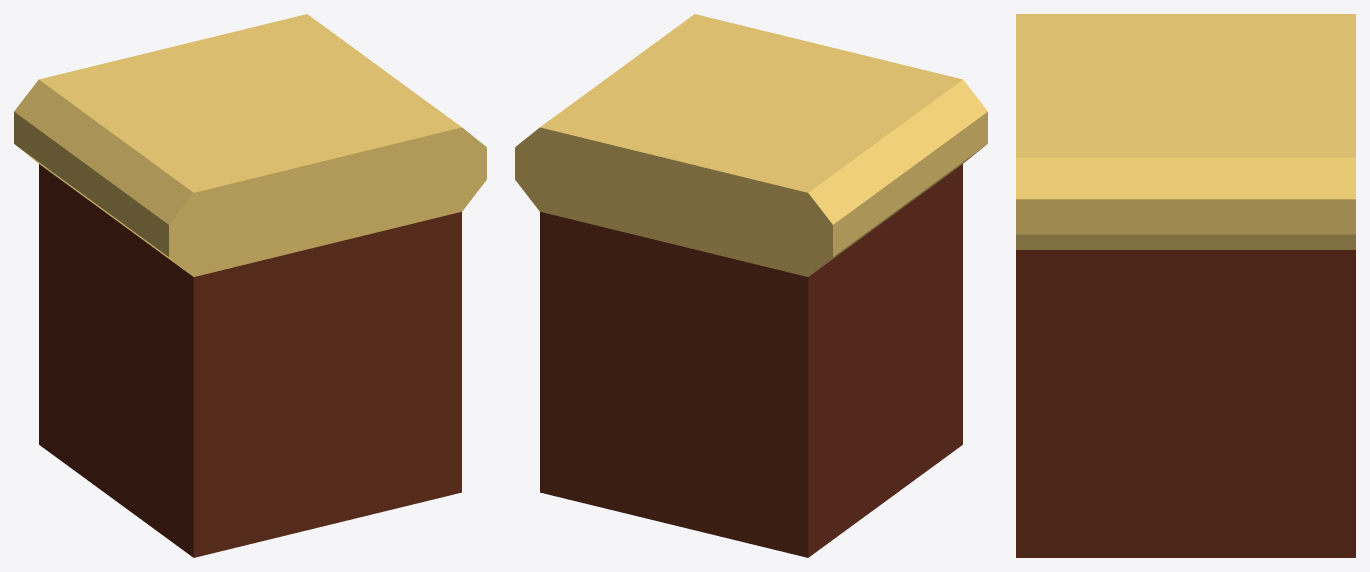
Rendered from SandDEdge.fbx.
3 renders of one model, left to right at view 1: azimuth 30°, elevation 25°; view 2: azimuth 150°, elevation 25°; view 3: azimuth 270°, elevation 25°, orthographic. The views are drawn at different scales.
Parts seen in each view (by area): view 1: Cube.004; view 2: Cube.004; view 3: Cube.004.
Part boxes in pixels (x1=…): Cube.004: x1=14, y1=14, x2=486, y2=557; Cube.004: x1=515, y1=14, x2=987, y2=557; Cube.004: x1=1016, y1=14, x2=1355, y2=557.
Bounding box in the file's own units: 237 × 260 × 200.
